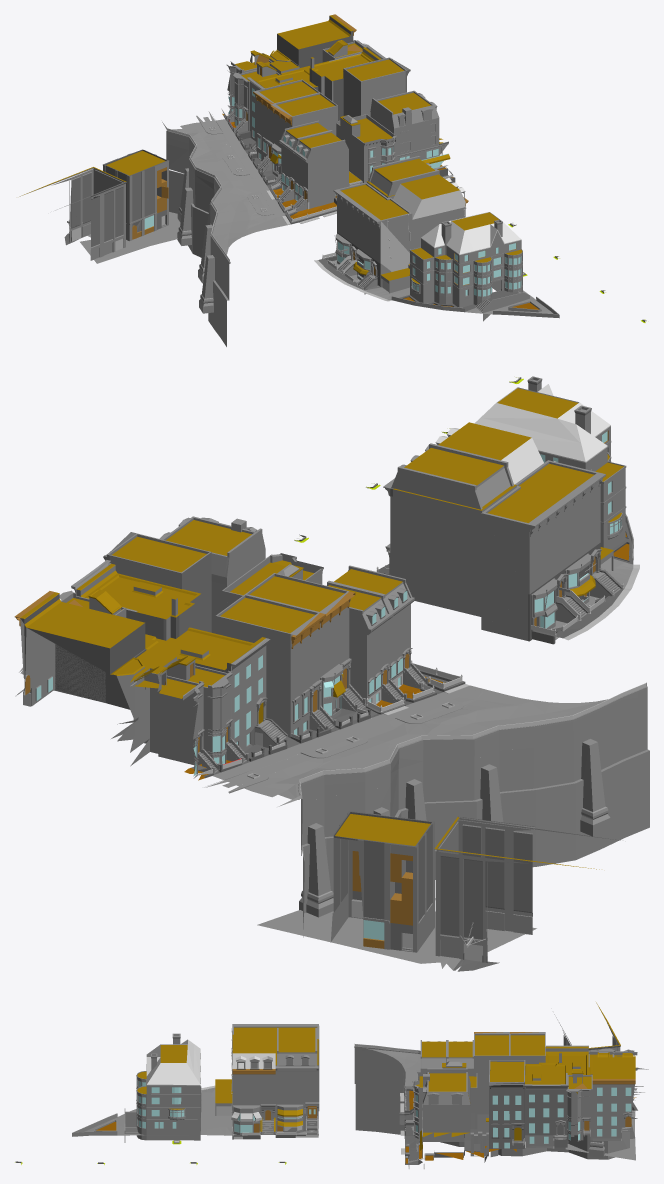
The model's file is brook_n_7.FBX.
3 renders of one model, top to bottom at view 1: azimuth 30°, elevation 25°; view 2: azimuth 150°, elevation 25°; view 3: azimuth 270°, elevation 25°, orthographic. The views are drawn at different scales.
Parts seen in each view (by area): view 1: unnamed, null; view 2: unnamed, null; view 3: unnamed, null.
Boxes of the visible parts, x1,y1,x2,y2 form: unnamed: (19,14,646,346); null: (279,90,455,222); unnamed: (14,376,649,971); null: (159,466,527,706); unnamed: (15,1002,648,1164); null: (303,1028,480,1169).
Bounding box in the file's own units: 113 × 52.43 × 177.
